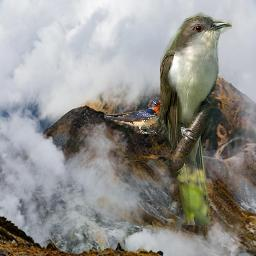Cuckoo: (160, 9, 232, 225)
Swallow: (104, 100, 165, 134)
